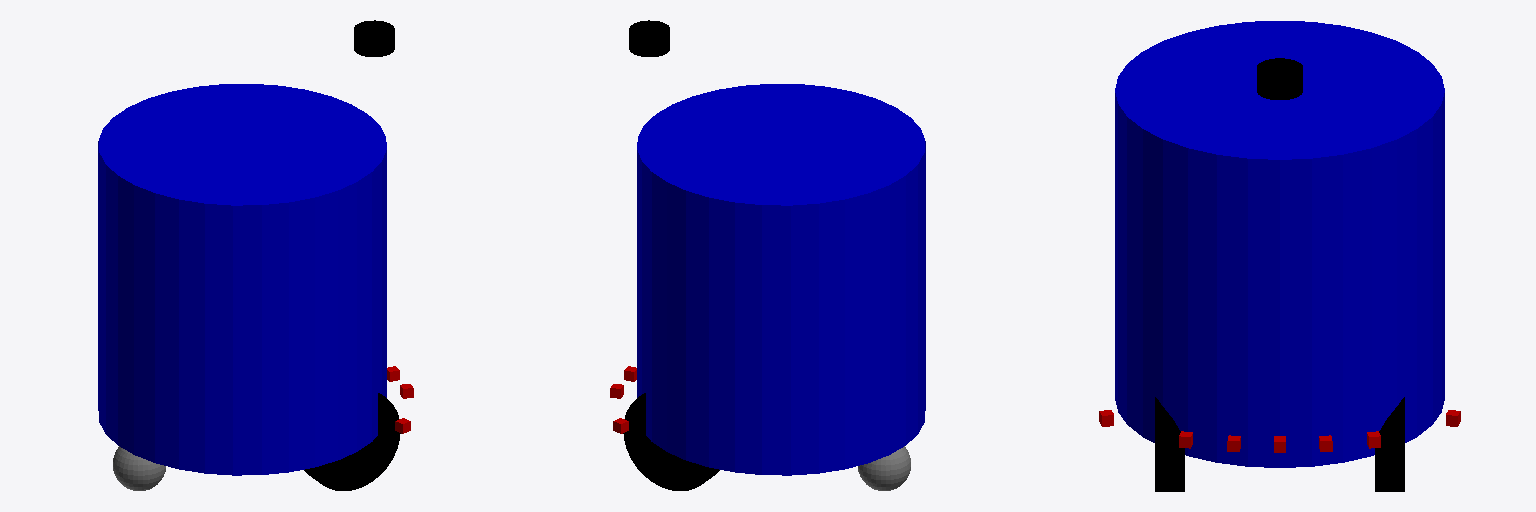
robot.urdf — verter_robot:
<?xml version="1.0"?>
<!-- URDF Model for Verter Robot - Gazebo Simulation Version -->
<robot name="verter_robot">

  <!-- Materials -->
  <material name="blue">
    <color rgba="0.0 0.0 0.8 1.0"/>
  </material>

  <material name="black">
    <color rgba="0.0 0.0 0.0 1.0"/>
  </material>

  <material name="red">
    <color rgba="0.8 0.0 0.0 1.0"/>
  </material>

  <material name="gray">
    <color rgba="0.5 0.5 0.5 1.0"/>
  </material>

  <!-- Base Link (Main Body) -->
  <!-- Циліндрична форма для більш реалістичної моделі -->
  <!-- Радіус ~0.267м (половина ширини 534мм), висота 550мм -->
  <link name="base_link">
    <visual>
      <origin xyz="0 0 0.275" rpy="0 0 0"/>
      <geometry>
        <cylinder radius="0.267" length="0.550"/>
      </geometry>
      <material name="blue"/>
    </visual>

    <collision>
      <origin xyz="0 0 0.275" rpy="0 0 0"/>
      <geometry>
        <!-- Collision трохи менший для кращої маневреності -->
        <cylinder radius="0.250" length="0.550"/>
      </geometry>
    </collision>

    <inertial>
      <origin xyz="0.120 0 -0.05" rpy="0 0 0"/>
      <mass value="12.0"/>
      <inertia
        ixx="0.25" ixy="0.0" ixz="0.0"
        iyy="0.25" iyz="0.0"
        izz="0.35"/>
    </inertial>
  </link>

  <!-- Left Wheel -->
  <link name="wheel_left">
    <visual>
      <origin xyz="0 0 0" rpy="1.5708 0 0"/>
      <geometry>
        <cylinder radius="0.1" length="0.05"/>
      </geometry>
      <material name="black"/>
    </visual>

    <collision>
      <origin xyz="0 0 0" rpy="1.5708 0 0"/>
      <geometry>
        <cylinder radius="0.1" length="0.05"/>
      </geometry>
    </collision>

    <inertial>
      <origin xyz="0 0 0" rpy="0 0 0"/>
      <mass value="0.8"/>
      <inertia
        ixx="0.005" ixy="0.0" ixz="0.0"
        iyy="0.005" iyz="0.0"
        izz="0.005"/>
    </inertial>
  </link>

  <joint name="wheel_left_joint" type="continuous">
    <parent link="base_link"/>
    <child link="wheel_left"/>
    <origin xyz="0.120 0.178 0" rpy="0 0 0"/>
    <axis xyz="0 1 0"/>
    <dynamics damping="0.1" friction="0.05"/>
  </joint>

  <!-- Right Wheel -->
  <link name="wheel_right">
    <visual>
      <origin xyz="0 0 0" rpy="1.5708 0 0"/>
      <geometry>
        <cylinder radius="0.1" length="0.05"/>
      </geometry>
      <material name="black"/>
    </visual>

    <collision>
      <origin xyz="0 0 0" rpy="1.5708 0 0"/>
      <geometry>
        <cylinder radius="0.1" length="0.05"/>
      </geometry>
    </collision>

    <inertial>
      <origin xyz="0 0 0" rpy="0 0 0"/>
      <mass value="0.8"/>
      <inertia
        ixx="0.005" ixy="0.0" ixz="0.0"
        iyy="0.005" iyz="0.0"
        izz="0.005"/>
    </inertial>
  </link>

  <joint name="wheel_right_joint" type="continuous">
    <parent link="base_link"/>
    <child link="wheel_right"/>
    <origin xyz="0.120 -0.178 0" rpy="0 0 0"/>
    <axis xyz="0 1 0"/>
    <dynamics damping="0.1" friction="0.05"/>
  </joint>

  <!-- Caster Wheel (Back) -->
  <link name="caster_back">
    <visual>
      <origin xyz="0 0 0" rpy="0 0 0"/>
      <geometry>
        <sphere radius="0.05"/>
      </geometry>
      <material name="gray"/>
    </visual>

    <collision>
      <origin xyz="0 0 0" rpy="0 0 0"/>
      <geometry>
        <sphere radius="0.05"/>
      </geometry>
      <surface>
        <friction>
          <ode>
            <mu>0.01</mu>
            <mu2>0.01</mu2>
          </ode>
        </friction>
      </surface>
    </collision>

    <inertial>
      <origin xyz="0 0 0" rpy="0 0 0"/>
      <mass value="0.5"/>
      <inertia
        ixx="0.001" ixy="0.0" ixz="0.0"
        iyy="0.001" iyz="0.0"
        izz="0.001"/>
    </inertial>
  </link>

  <joint name="caster_back_joint" type="fixed">
    <parent link="base_link"/>
    <child link="caster_back"/>
    <origin xyz="-0.22 0 -0.05" rpy="0 0 0"/>
  </joint>

  <!-- Distance Sensors (7 sensors) -->

  <!-- 1. Front Center (0°) -->
  <link name="sensor_front_center">
    <visual>
      <origin xyz="0 0 0" rpy="0 0 0"/>
      <geometry>
        <box size="0.02 0.02 0.02"/>
      </geometry>
      <material name="red"/>
    </visual>
  </link>

  <joint name="sensor_front_center_joint" type="fixed">
    <parent link="base_link"/>
    <child link="sensor_front_center"/>
    <origin xyz="0.280 0 0.048" rpy="0 0 0"/>
  </joint>

  <!-- 2. Front Left Inner (5,7°) -->
  <link name="sensor_front_left_inner">
    <visual>
      <origin xyz="0 0 0" rpy="0 0 0"/>
      <geometry>
        <box size="0.02 0.02 0.02"/>
      </geometry>
      <material name="red"/>
    </visual>
  </link>

  <joint name="sensor_front_left_inner_joint" type="fixed">
    <parent link="base_link"/>
    <child link="sensor_front_left_inner"/>
    <origin xyz="0.277 0.074 0.048" rpy="0 0 0.0995"/>
  </joint>

  <!-- 3. Front Left Outer (13,2°) -->
  <link name="sensor_front_left_outer">
    <visual>
      <origin xyz="0 0 0" rpy="0 0 0"/>
      <geometry>
        <box size="0.02 0.02 0.02"/>
      </geometry>
      <material name="red"/>
    </visual>
  </link>

  <joint name="sensor_front_left_outer_joint" type="fixed">
    <parent link="base_link"/>
    <child link="sensor_front_left_outer"/>
    <origin xyz="0.262 0.152 0.048" rpy="0 0 0.2304"/>
  </joint>

  <!-- 4. Front Right Inner (-5,7°) -->
  <link name="sensor_front_right_inner">
    <visual>
      <origin xyz="0 0 0" rpy="0 0 0"/>
      <geometry>
        <box size="0.02 0.02 0.02"/>
      </geometry>
      <material name="red"/>
    </visual>
  </link>

  <joint name="sensor_front_right_inner_joint" type="fixed">
    <parent link="base_link"/>
    <child link="sensor_front_right_inner"/>
    <origin xyz="0.277 -0.074 0.048" rpy="0 0 -0.0995"/>
  </joint>

  <!-- 5. Front Right Outer (-13,2°) -->
  <link name="sensor_front_right_outer">
    <visual>
      <origin xyz="0 0 0" rpy="0 0 0"/>
      <geometry>
        <box size="0.02 0.02 0.02"/>
      </geometry>
      <material name="red"/>
    </visual>
  </link>

  <joint name="sensor_front_right_outer_joint" type="fixed">
    <parent link="base_link"/>
    <child link="sensor_front_right_outer"/>
    <origin xyz="0.262 -0.152 0.048" rpy="0 0 -0.2304"/>
  </joint>

  <!-- 6. Left Sensor (76°) -->
  <!-- Винесений за межі корпусу для уникнення блокування променів -->
  <link name="sensor_left">
    <visual>
      <origin xyz="0 0 0" rpy="0 0 0"/>
      <geometry>
        <box size="0.02 0.02 0.02"/>
      </geometry>
      <material name="red"/>
    </visual>
  </link>

  <joint name="sensor_left_joint" type="fixed">
    <parent link="base_link"/>
    <child link="sensor_left"/>
    <!-- Збільшено y з 0.228 до 0.280 для виносу за межі циліндра -->
    <origin xyz="0.180 0.280 0.048" rpy="0 0 1.3265"/>
  </joint>

  <!-- 7. Right Sensor (-76°) -->
  <!-- Винесений за межі корпусу для уникнення блокування променів -->
  <link name="sensor_right">
    <visual>
      <origin xyz="0 0 0" rpy="0 0 0"/>
      <geometry>
        <box size="0.02 0.02 0.02"/>
      </geometry>
      <material name="red"/>
    </visual>
  </link>

  <joint name="sensor_right_joint" type="fixed">
    <parent link="base_link"/>
    <child link="sensor_right"/>
    <!-- Збільшено y з -0.228 до -0.280 для виносу за межі циліндра -->
    <origin xyz="0.180 -0.280 0.048" rpy="0 0 -1.3265"/>
  </joint>

  <!-- RPLiDAR A1M8 -->
  <!-- 2D Lidar on front of robot at 80cm height -->
  <!-- Specs: 360° capable, using 180° FOV (front hemisphere) -->
  <!-- Range: 0.15m - 12m, Frequency: 5.5Hz -->
  <link name="lidar_link">
    <visual>
      <origin xyz="0 0 0" rpy="0 0 0"/>
      <geometry>
        <!-- RPLiDAR A1M8: diameter 76mm, height 40mm -->
        <cylinder radius="0.038" length="0.04"/>
      </geometry>
      <material name="black"/>
    </visual>

    <collision>
      <origin xyz="0 0 0" rpy="0 0 0"/>
      <geometry>
        <cylinder radius="0.038" length="0.04"/>
      </geometry>
    </collision>

    <inertial>
      <origin xyz="0 0 0" rpy="0 0 0"/>
      <mass value="0.190"/>  <!-- 190g -->
      <inertia
        ixx="0.00001" ixy="0.0" ixz="0.0"
        iyy="0.00001" iyz="0.0"
        izz="0.00001"/>
    </inertial>
  </link>

  <joint name="lidar_joint" type="fixed">
    <parent link="base_link"/>
    <child link="lidar_link"/>
    <!-- Lidar mounted on front of robot
         X: 0.28m forward (front edge)
         Y: 0.0m (center)
         Z: 0.70m above base_link = 0.80m above ground (base_footprint)
         Note: base_link is 0.1m above ground -->
    <origin xyz="0.28 0 0.70" rpy="0 0 0"/>
  </joint>

  <!-- IMU (MPU-6050 simulation) -->
  <!-- Simulates the real MPU-6050 accelerometer + gyroscope + magnetometer -->
  <link name="imu_link">
    <visual>
      <origin xyz="0 0 0" rpy="0 0 0"/>
      <geometry>
        <box size="0.02 0.02 0.01"/>
      </geometry>
      <material name="gray"/>
    </visual>

    <collision>
      <origin xyz="0 0 0" rpy="0 0 0"/>
      <geometry>
        <box size="0.02 0.02 0.01"/>
      </geometry>
    </collision>

    <inertial>
      <origin xyz="0 0 0" rpy="0 0 0"/>
      <mass value="0.001"/>
      <inertia
        ixx="0.000001" ixy="0.0" ixz="0.0"
        iyy="0.000001" iyz="0.0"
        izz="0.000001"/>
    </inertial>
  </link>

  <joint name="imu_joint" type="fixed">
    <parent link="base_link"/>
    <child link="imu_link"/>
    <!-- IMU positioned at center of robot, slightly above base_link -->
    <origin xyz="0 0 0.05" rpy="0 0 0"/>
  </joint>

  <!-- Base Footprint -->
  <link name="base_footprint"/>

  <joint name="base_footprint_joint" type="fixed">
    <parent link="base_footprint"/>
    <child link="base_link"/>
    <origin xyz="0 0 0.1" rpy="0 0 0"/>
  </joint>

  <!-- ========== GAZEBO PLUGINS ========== -->

  <!-- Differential Drive Plugin -->
  <gazebo>
    <plugin name="diff_drive" filename="libgazebo_ros_diff_drive.so">
      <!-- Update rate in Hz -->
      <update_rate>50</update_rate>

      <!-- Wheels -->
      <left_joint>wheel_left_joint</left_joint>
      <right_joint>wheel_right_joint</right_joint>

      <!-- Kinematics -->
      <wheel_separation>0.356</wheel_separation>
      <wheel_diameter>0.2</wheel_diameter>

      <!-- Limits -->
      <max_wheel_torque>50</max_wheel_torque>
      <max_wheel_acceleration>2.0</max_wheel_acceleration>

      <!-- Input -->
      <command_topic>cmd_vel</command_topic>

      <!-- Output -->
      <publish_odom>true</publish_odom>
      <publish_odom_tf>true</publish_odom_tf>
      <publish_wheel_tf>true</publish_wheel_tf>

      <odometry_topic>odom</odometry_topic>
      <odometry_frame>odom</odometry_frame>
      <robot_base_frame>base_footprint</robot_base_frame>
    </plugin>
  </gazebo>

  <!-- Gazebo material properties for links -->
  <gazebo reference="base_link">
    <material>Gazebo/Blue</material>
  </gazebo>

  <gazebo reference="wheel_left">
    <material>Gazebo/Black</material>
    <mu1>2.5</mu1>
    <mu2>2.5</mu2>
    <kp>1000000.0</kp>
    <kd>100.0</kd>
    <minDepth>0.001</minDepth>
    <maxVel>1.0</maxVel>
  </gazebo>

  <gazebo reference="wheel_right">
    <material>Gazebo/Black</material>
    <mu1>2.5</mu1>
    <mu2>2.5</mu2>
    <kp>1000000.0</kp>
    <kd>100.0</kd>
    <minDepth>0.001</minDepth>
    <maxVel>1.0</maxVel>
  </gazebo>

  <gazebo reference="caster_back">
    <material>Gazebo/Grey</material>
    <mu1>0.0</mu1>
    <mu2>0.0</mu2>
    <kp>1000000.0</kp>
    <kd>100.0</kd>
    <minDepth>0.001</minDepth>
  </gazebo>

  <gazebo reference="camera_tof">
    <material>Gazebo/Red</material>
  </gazebo>

  <!-- Ray sensors for distance sensors (7 sensors) -->
  <gazebo reference="sensor_front_center">
    <sensor type="ray" name="sensor_front_center">
      <pose>0 0 0 0 0 0</pose>
      <visualize>true</visualize>
      <update_rate>10</update_rate>
      <ray>
        <scan>
          <horizontal>
            <samples>5</samples>
            <resolution>1</resolution>
            <min_angle>-0.01</min_angle>
            <max_angle>0.01</max_angle>
          </horizontal>
        </scan>
        <range>
          <min>0.02</min>
          <max>4.0</max>
          <resolution>0.01</resolution>
        </range>
      </ray>
      <plugin name="gazebo_ros_sensor_front_center" filename="libgazebo_ros_ray_sensor.so">
        <ros>
          <namespace>/verter</namespace>
          <remapping>~/out:=distance_sensors/front_center</remapping>
        </ros>
        <output_type>sensor_msgs/LaserScan</output_type>
        <frame_name>sensor_front_center</frame_name>
      </plugin>
    </sensor>
  </gazebo>

  <gazebo reference="sensor_front_left_inner">
    <sensor type="ray" name="sensor_front_left_inner">
      <pose>0 0 0 0 0 0</pose>
      <visualize>true</visualize>
      <update_rate>10</update_rate>
      <ray>
        <scan>
          <horizontal>
            <samples>5</samples>
            <resolution>1</resolution>
            <min_angle>-0.01</min_angle>
            <max_angle>0.01</max_angle>
          </horizontal>
        </scan>
        <range>
          <min>0.02</min>
          <max>4.0</max>
          <resolution>0.01</resolution>
        </range>
      </ray>
      <plugin name="gazebo_ros_sensor_front_left_inner" filename="libgazebo_ros_ray_sensor.so">
        <ros>
          <namespace>/verter</namespace>
          <remapping>~/out:=distance_sensors/front_left_inner</remapping>
        </ros>
        <output_type>sensor_msgs/LaserScan</output_type>
        <frame_name>sensor_front_left_inner</frame_name>
      </plugin>
    </sensor>
  </gazebo>

  <gazebo reference="sensor_front_left_outer">
    <sensor type="ray" name="sensor_front_left_outer">
      <pose>0 0 0 0 0 0</pose>
      <visualize>true</visualize>
      <update_rate>10</update_rate>
      <ray>
        <scan>
          <horizontal>
            <samples>5</samples>
            <resolution>1</resolution>
            <min_angle>-0.01</min_angle>
            <max_angle>0.01</max_angle>
          </horizontal>
        </scan>
        <range>
          <min>0.02</min>
          <max>4.0</max>
          <resolution>0.01</resolution>
        </range>
      </ray>
      <plugin name="gazebo_ros_sensor_front_left_outer" filename="libgazebo_ros_ray_sensor.so">
        <ros>
          <namespace>/verter</namespace>
          <remapping>~/out:=distance_sensors/front_left_outer</remapping>
        </ros>
        <output_type>sensor_msgs/LaserScan</output_type>
        <frame_name>sensor_front_left_outer</frame_name>
      </plugin>
    </sensor>
  </gazebo>

  <gazebo reference="sensor_front_right_inner">
    <sensor type="ray" name="sensor_front_right_inner">
      <pose>0 0 0 0 0 0</pose>
      <visualize>true</visualize>
      <update_rate>10</update_rate>
      <ray>
        <scan>
          <horizontal>
            <samples>5</samples>
            <resolution>1</resolution>
            <min_angle>-0.01</min_angle>
            <max_angle>0.01</max_angle>
          </horizontal>
        </scan>
        <range>
          <min>0.02</min>
          <max>4.0</max>
          <resolution>0.01</resolution>
        </range>
      </ray>
      <plugin name="gazebo_ros_sensor_front_right_inner" filename="libgazebo_ros_ray_sensor.so">
        <ros>
          <namespace>/verter</namespace>
          <remapping>~/out:=distance_sensors/front_right_inner</remapping>
        </ros>
        <output_type>sensor_msgs/LaserScan</output_type>
        <frame_name>sensor_front_right_inner</frame_name>
      </plugin>
    </sensor>
  </gazebo>

  <gazebo reference="sensor_front_right_outer">
    <sensor type="ray" name="sensor_front_right_outer">
      <pose>0 0 0 0 0 0</pose>
      <visualize>true</visualize>
      <update_rate>10</update_rate>
      <ray>
        <scan>
          <horizontal>
            <samples>5</samples>
            <resolution>1</resolution>
            <min_angle>-0.01</min_angle>
            <max_angle>0.01</max_angle>
          </horizontal>
        </scan>
        <range>
          <min>0.02</min>
          <max>4.0</max>
          <resolution>0.01</resolution>
        </range>
      </ray>
      <plugin name="gazebo_ros_sensor_front_right_outer" filename="libgazebo_ros_ray_sensor.so">
        <ros>
          <namespace>/verter</namespace>
          <remapping>~/out:=distance_sensors/front_right_outer</remapping>
        </ros>
        <output_type>sensor_msgs/LaserScan</output_type>
        <frame_name>sensor_front_right_outer</frame_name>
      </plugin>
    </sensor>
  </gazebo>

  <gazebo reference="sensor_left">
    <sensor type="ray" name="sensor_left">
      <pose>0 0 0 0 0 0</pose>
      <visualize>true</visualize>
      <update_rate>10</update_rate>
      <ray>
        <scan>
          <horizontal>
            <samples>5</samples>
            <resolution>1</resolution>
            <min_angle>-0.01</min_angle>
            <max_angle>0.01</max_angle>
          </horizontal>
        </scan>
        <range>
          <min>0.02</min>
          <max>4.0</max>
          <resolution>0.01</resolution>
        </range>
      </ray>
      <plugin name="gazebo_ros_sensor_left" filename="libgazebo_ros_ray_sensor.so">
        <ros>
          <namespace>/verter</namespace>
          <remapping>~/out:=distance_sensors/left</remapping>
        </ros>
        <output_type>sensor_msgs/LaserScan</output_type>
        <frame_name>sensor_left</frame_name>
      </plugin>
    </sensor>
  </gazebo>

  <gazebo reference="sensor_right">
    <sensor type="ray" name="sensor_right">
      <pose>0 0 0 0 0 0</pose>
      <visualize>true</visualize>
      <update_rate>10</update_rate>
      <ray>
        <scan>
          <horizontal>
            <samples>5</samples>
            <resolution>1</resolution>
            <min_angle>-0.01</min_angle>
            <max_angle>0.01</max_angle>
          </horizontal>
        </scan>
        <range>
          <min>0.02</min>
          <max>4.0</max>
          <resolution>0.01</resolution>
        </range>
      </ray>
      <plugin name="gazebo_ros_sensor_right" filename="libgazebo_ros_ray_sensor.so">
        <ros>
          <namespace>/verter</namespace>
          <remapping>~/out:=distance_sensors/right</remapping>
        </ros>
        <output_type>sensor_msgs/LaserScan</output_type>
        <frame_name>sensor_right</frame_name>
      </plugin>
    </sensor>
  </gazebo>

  <!-- RPLiDAR A1M8 Plugin -->
  <!-- 2D Laser Scanner simulating RPLiDAR A1M8 with 120° FOV -->
  <gazebo reference="lidar_link">
    <sensor type="ray" name="rplidar_a1m8">
      <pose>0 0 0 0 0 0</pose>
      <visualize>true</visualize>
      <update_rate>5.5</update_rate>  <!-- RPLiDAR A1M8: 5.5 Hz typical -->
      <ray>
        <scan>
          <horizontal>
            <!-- 240 samples for smooth scan, using 120° FOV -->
            <samples>240</samples>
            <resolution>1</resolution>
            <!-- 120° FOV: from -60° to +60° (front sector) -->
            <min_angle>-1.0472</min_angle>  <!-- -π/3 = -60° -->
            <max_angle>1.0472</max_angle>   <!-- +π/3 = +60° -->
          </horizontal>
        </scan>
        <range>
          <!-- RPLiDAR A1M8 specifications -->
          <min>0.15</min>  <!-- 15cm minimum range -->
          <max>12.0</max>  <!-- 12m maximum range -->
          <resolution>0.01</resolution>  <!-- 1cm resolution -->
        </range>
        <noise>
          <!-- Add realistic noise for simulation -->
          <type>gaussian</type>
          <mean>0.0</mean>
          <stddev>0.01</stddev>  <!-- 1cm standard deviation -->
        </noise>
      </ray>
      <plugin name="gazebo_ros_lidar" filename="libgazebo_ros_ray_sensor.so">
        <ros>
          <namespace>/verter</namespace>
          <remapping>~/out:=scan</remapping>
        </ros>
        <output_type>sensor_msgs/LaserScan</output_type>
        <frame_name>lidar_link</frame_name>
      </plugin>
    </sensor>
  </gazebo>

  <!-- IMU Sensor Plugin (MPU-6050 + Magnetometer simulation) -->
  <!-- Publishes /imu/data (orientation, angular velocity, linear acceleration) -->
  <gazebo reference="imu_link">
    <gravity>true</gravity>
    <sensor name="imu_sensor" type="imu">
      <always_on>true</always_on>
      <update_rate>100</update_rate>  <!-- 100 Hz - typical for MPU-6050 -->
      <visualize>true</visualize>

      <plugin filename="libgazebo_ros_imu_sensor.so" name="imu_plugin">
        <ros>
          <namespace>/verter</namespace>
          <remapping>~/out:=imu/data</remapping>
        </ros>

        <!-- Frame name for the IMU -->
        <initial_orientation_as_reference>false</initial_orientation_as_reference>
        <frame_name>imu_link</frame_name>

        <!-- Noise parameters (based on MPU-6050 datasheet) -->
        <!-- Angular velocity noise (gyroscope) -->
        <angular_velocity_stdev>0.0002</angular_velocity_stdev>

        <!-- Linear acceleration noise (accelerometer) -->
        <linear_acceleration_stdev>0.017</linear_acceleration_stdev>

        <!-- Orientation noise (magnetometer/compass) -->
        <orientation_stdev>0.01</orientation_stdev>
      </plugin>
    </sensor>
  </gazebo>

</robot>

--- Render facts (derived) ---
Views: 3 orthographic renders of the robot side by side, from view 1: azimuth 30°, elevation 25°; view 2: azimuth 150°, elevation 25°; view 3: azimuth 270°, elevation 25°.
Robot: verter_robot — 14 links, 13 joints (2 continuous, 11 fixed); root link base_footprint; default pose: all joints at 0.
Links seen in each view (by area): view 1: base_link, wheel_right, caster_back, lidar_link; view 2: base_link, wheel_left, caster_back, lidar_link; view 3: base_link, wheel_left, wheel_right, lidar_link.
Boxes of the visible links, box(x1,y1,x2,y2) form: base_link: box(98, 84, 386, 475); wheel_right: box(304, 393, 400, 490); caster_back: box(113, 446, 165, 490); lidar_link: box(354, 20, 394, 56); base_link: box(637, 84, 925, 475); wheel_left: box(623, 393, 719, 490); caster_back: box(858, 446, 910, 490); lidar_link: box(629, 20, 669, 56); base_link: box(1115, 21, 1444, 467); wheel_left: box(1375, 397, 1404, 491); wheel_right: box(1155, 397, 1184, 491); lidar_link: box(1257, 58, 1302, 99).
Bounding box of the posed robot: 0.588 × 0.5842 × 0.82 m (x, y, z).
Geometry: primitives only (box / cylinder / sphere), no mesh files.
